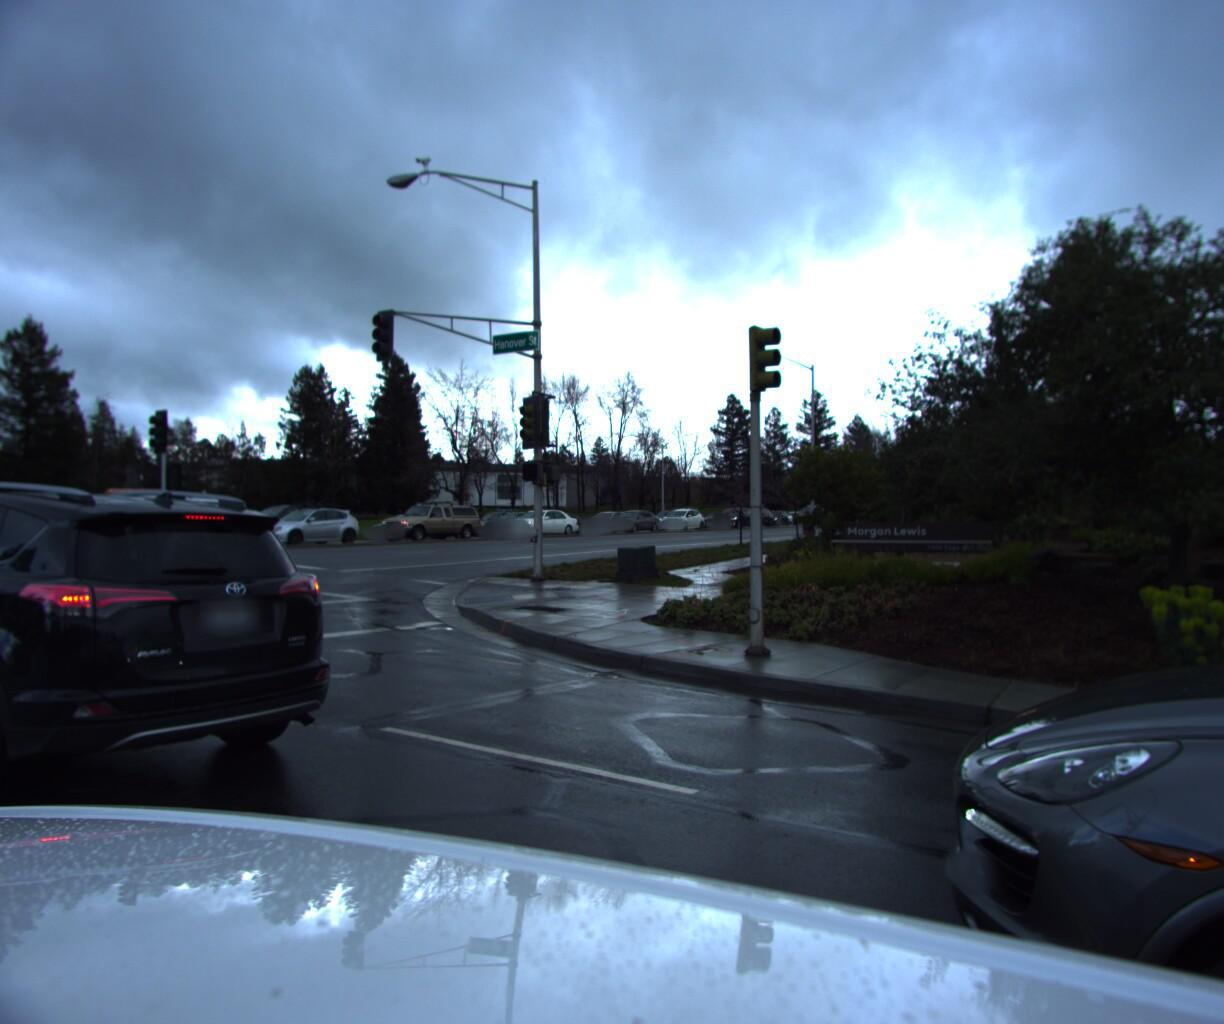car: (0, 460, 381, 846), (29, 485, 210, 553), (71, 498, 253, 556), (235, 495, 367, 548), (372, 498, 486, 544), (496, 506, 582, 540), (359, 513, 436, 541), (475, 511, 547, 538), (460, 508, 524, 537), (601, 508, 666, 536), (655, 505, 708, 532), (577, 511, 635, 535)
